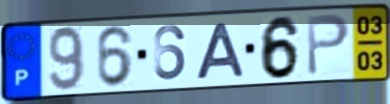6: (257, 13, 304, 81), (94, 23, 136, 90), (152, 23, 189, 84)
9: (47, 23, 88, 94)
A: (193, 21, 248, 81)
P: (305, 11, 352, 78)
